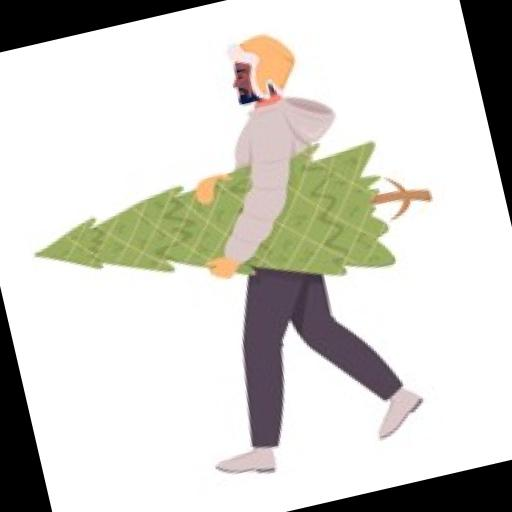human: (107, 10, 450, 496)
